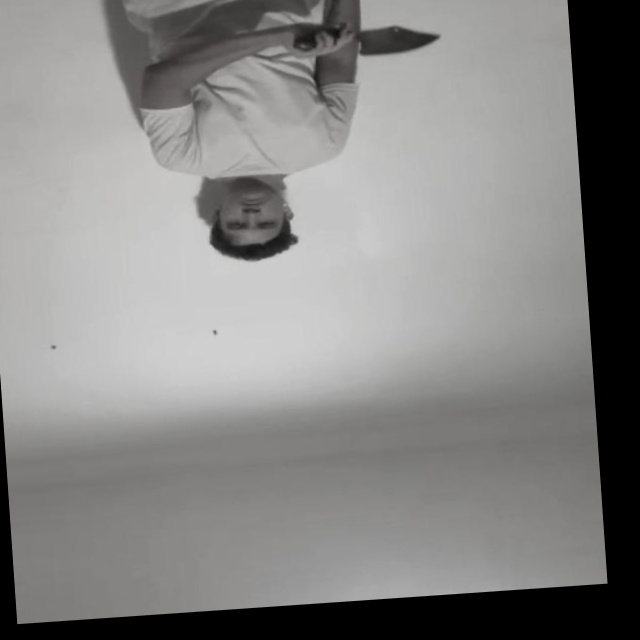Sharp-Object: (357, 21, 443, 58)
